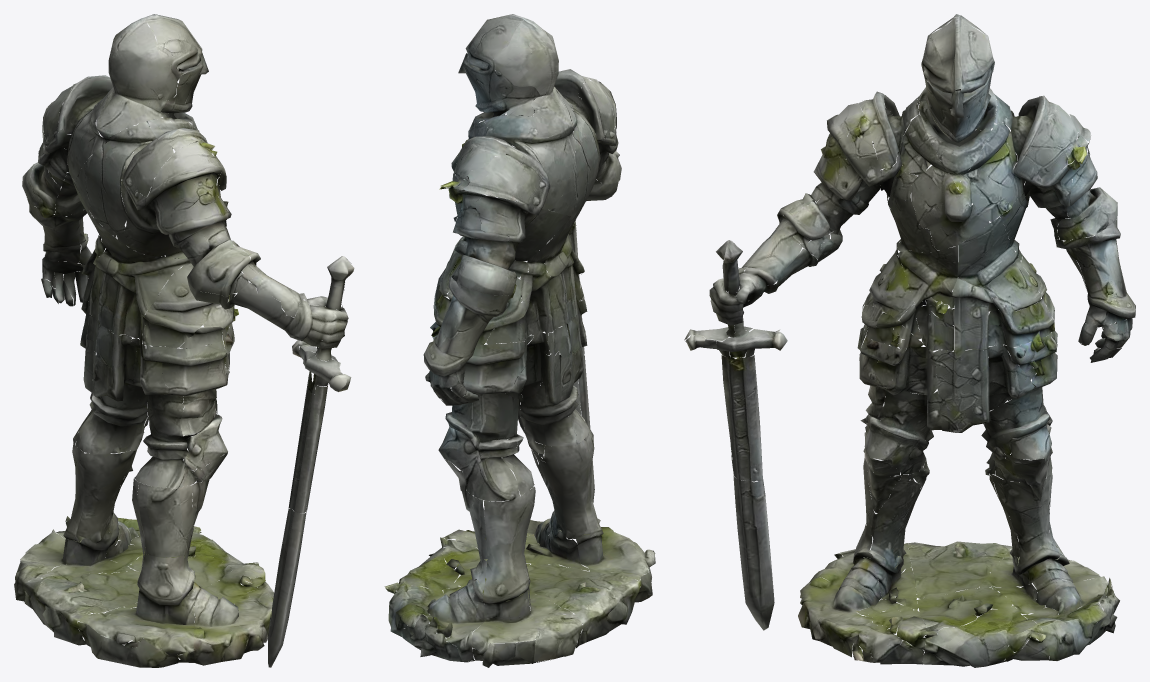
Rendered from guardian_statue.glb.
3 renders of one model, left to right at view 1: azimuth 30°, elevation 25°; view 2: azimuth 150°, elevation 25°; view 3: azimuth 270°, elevation 25°, orthographic. The views are drawn at different scales.
Visible parts, largest first — view 1: tripo_node_581f9895-819b-4fbf-a17d-6f0a1ab7346f; view 2: tripo_node_581f9895-819b-4fbf-a17d-6f0a1ab7346f; view 3: tripo_node_581f9895-819b-4fbf-a17d-6f0a1ab7346f.
Boxes of the visible parts, left/top/right/bottom form: tripo_node_581f9895-819b-4fbf-a17d-6f0a1ab7346f: left=14, top=14, right=354, bottom=667; tripo_node_581f9895-819b-4fbf-a17d-6f0a1ab7346f: left=384, top=14, right=655, bottom=667; tripo_node_581f9895-819b-4fbf-a17d-6f0a1ab7346f: left=684, top=14, right=1135, bottom=667.
Size of the model in its own units: 0.3598 by 0.9998 by 0.6781.
Materials: 1 (1 with a texture image).
